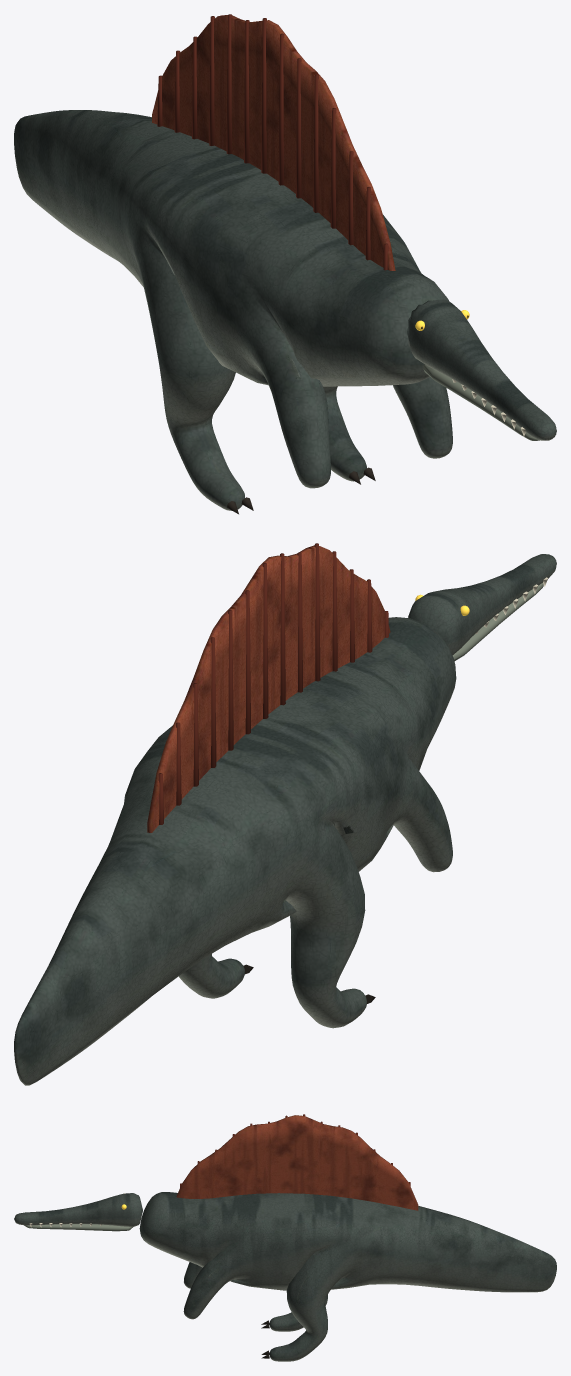
Rendered from spinosaurus.glb.
3 views of the same model, one above another, from view 1: azimuth 30°, elevation 25°; view 2: azimuth 150°, elevation 25°; view 3: azimuth 270°, elevation 25° (orthographic). The views are drawn at different scales.
Visible parts, largest first — view 1: spinosaurus; view 2: spinosaurus; view 3: spinosaurus.
Part boxes in pixels (x1,y1,x2,y2): spinosaurus: [14, 14, 556, 514]; spinosaurus: [14, 543, 556, 1085]; spinosaurus: [14, 1114, 556, 1361].
Bounding box in the file's own units: 3.25 × 7.16 × 15.23.
Materials: 9 (3 with a texture image).
